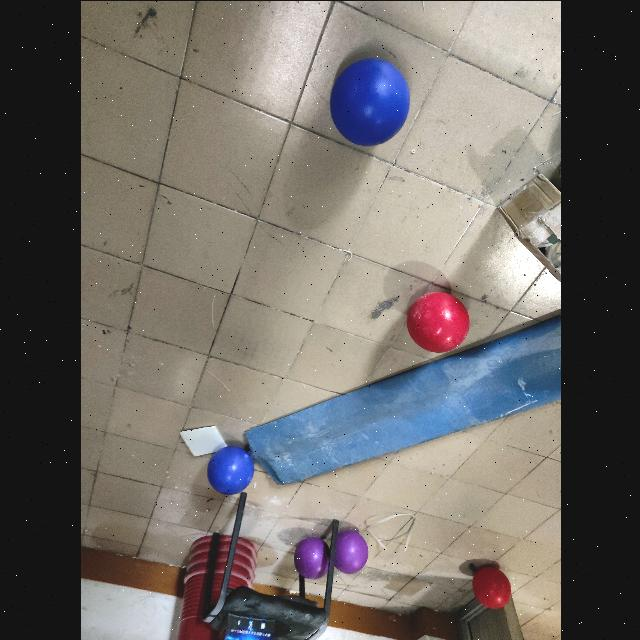B: (324, 57, 408, 149), (205, 442, 253, 493)
P: (329, 526, 367, 576), (292, 532, 332, 578)
R: (404, 292, 466, 354), (470, 564, 510, 610)
